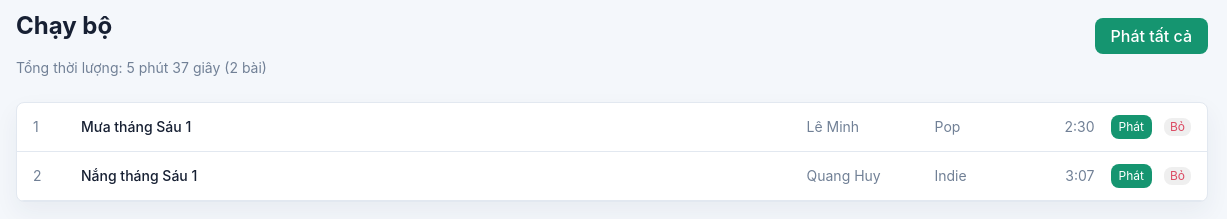
PlaylistDetailPage › hiển thị tổng thời lượng, phát tất cả và bỏ bài
Expected: the text "Tổng thời lượng: 5 phút 37 giây (2 bài)" is shown, [16,58,267,78]
Click the button "Phát tất cả".
click(1151, 36)  # box [1094,18,1208,54]
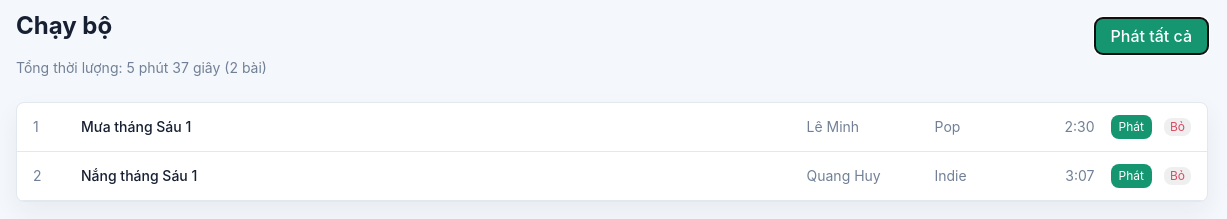
Click the button "Bỏ" in the row of "2:30".
click(1178, 127)  # box [1164,118,1191,136]
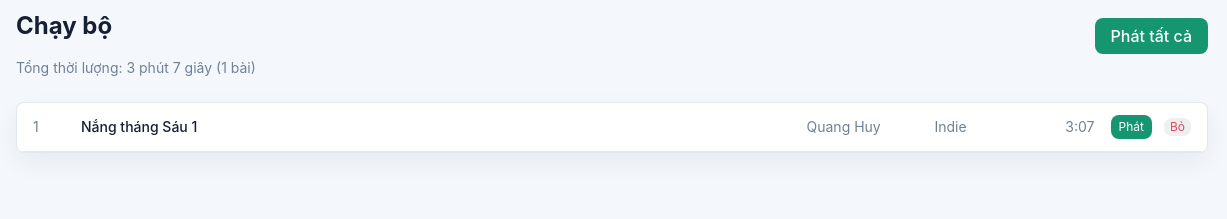
Expected: the text "Tổng thời lượng: 3 phút 7 giây (1 bài)" is shown, [16,58,256,78]
